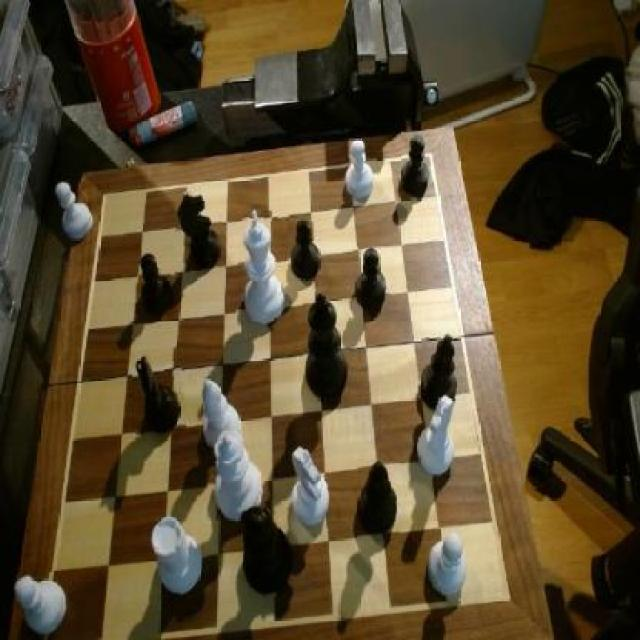bishop: (358, 462, 401, 539), (418, 331, 459, 410)
black-bishop: (305, 294, 352, 403)
black-king: (132, 349, 185, 437), (175, 189, 224, 272)
black-knight: (136, 250, 174, 318), (352, 248, 390, 314), (400, 134, 435, 201), (289, 220, 325, 282)
black-pawn: (240, 502, 294, 598)
black-rook: (198, 374, 244, 453)
white-bishop: (237, 210, 288, 328), (208, 428, 268, 522)
white-king: (290, 443, 336, 528), (416, 394, 460, 479)
white-knight: (14, 571, 69, 640), (426, 530, 470, 602), (54, 179, 95, 246), (343, 139, 379, 203)
white-queen: (149, 516, 208, 602)
